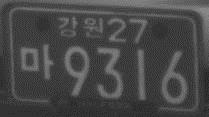1: (130, 49, 156, 100)
2: (107, 17, 127, 42)
3: (96, 46, 124, 99)
6: (160, 49, 188, 104)
7: (128, 18, 148, 43)
9: (63, 45, 90, 96)
강원_O: (56, 15, 104, 39)
마: (19, 43, 54, 80)
